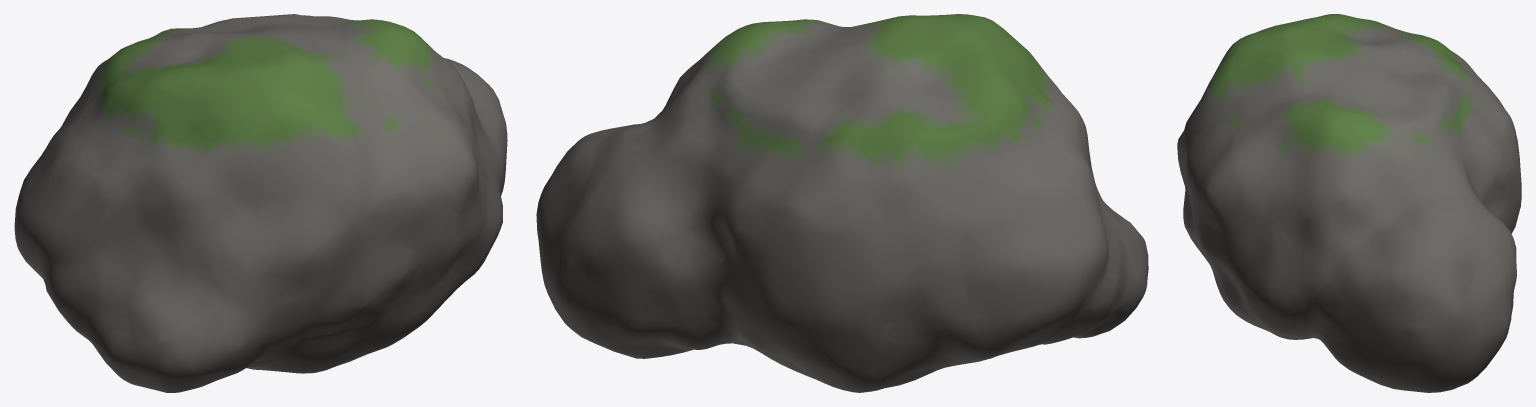
Rendered from rock2.glb.
3 views of the same model, side by side, from view 1: azimuth 30°, elevation 25°; view 2: azimuth 150°, elevation 25°; view 3: azimuth 270°, elevation 25° (orthographic). The views are drawn at different scales.
Parts seen in each view (by area): view 1: rock2; view 2: rock2; view 3: rock2.
Boxes of the visible parts, x1,y1,x2,y2 form: rock2: [14, 14, 507, 392]; rock2: [536, 14, 1148, 392]; rock2: [1177, 14, 1521, 392].
Bounding box in the file's own units: 1.42 × 0.8439 × 0.9975.
